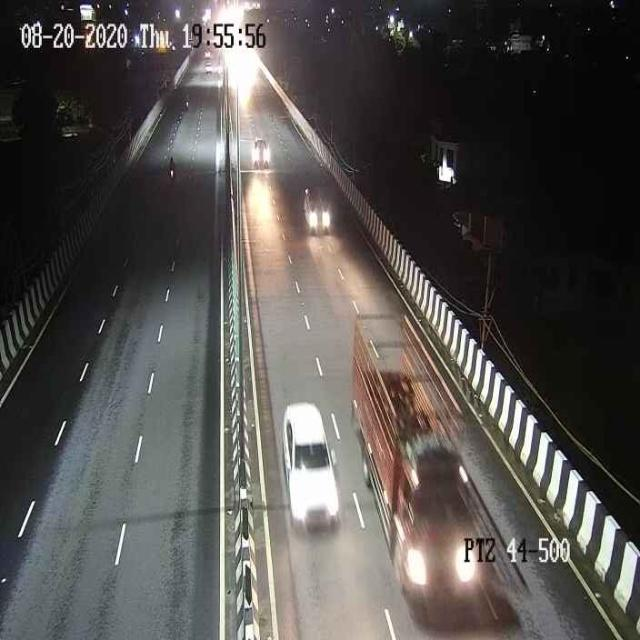car: (282, 392, 339, 528), (302, 185, 333, 237), (247, 135, 274, 170)
